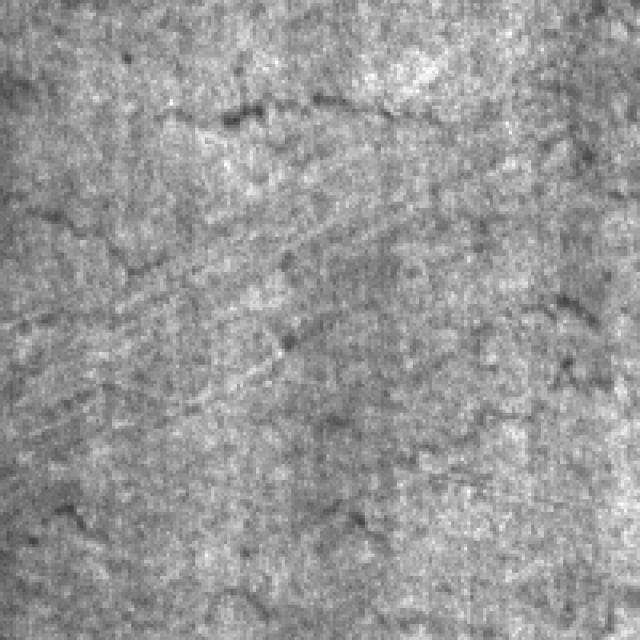crazing: (282, 278, 620, 557), (3, 173, 221, 422)
